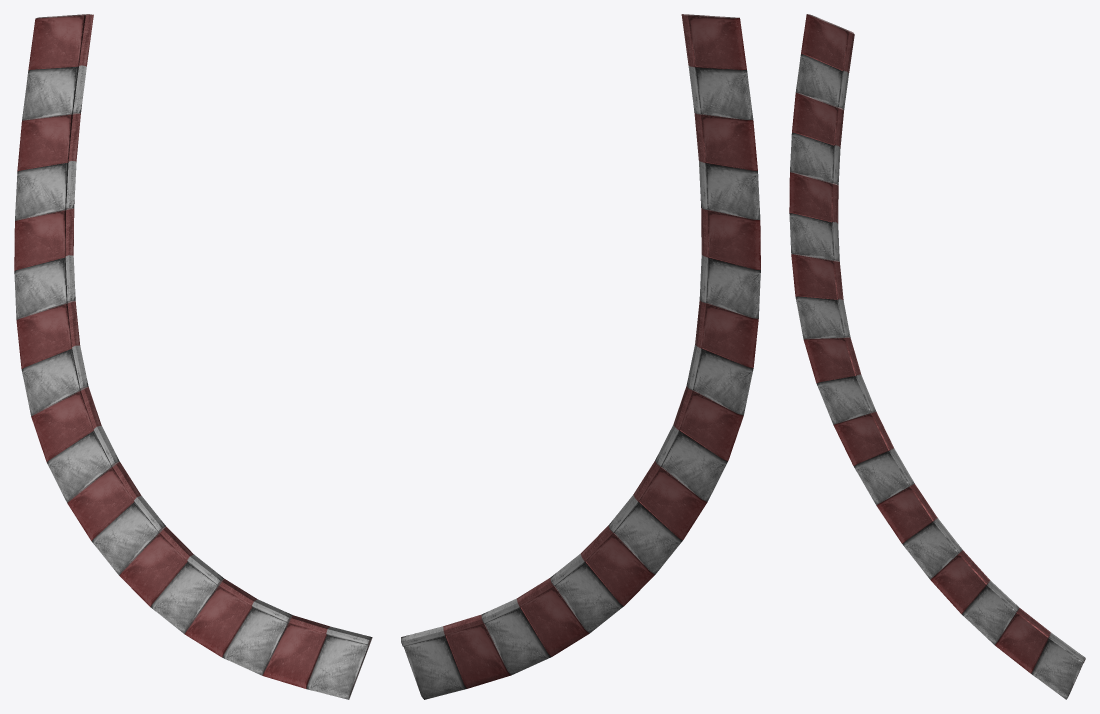
The model's file is _1KERB_01_01_Scene.229.obj.
The picture shows the model from 3 angles, left to right: view 1: azimuth 30°, elevation 25°; view 2: azimuth 150°, elevation 25°; view 3: azimuth 330°, elevation 25°; orthographic projection. The views are drawn at different scales.
Visible parts, largest first — view 1: _1KERB_01_01_Scene.229; view 2: _1KERB_01_01_Scene.229; view 3: _1KERB_01_01_Scene.229.
Part boxes in pixels (<box>): _1KERB_01_01_Scene.229: <box>14,14,372,699</box>; _1KERB_01_01_Scene.229: <box>401,14,760,699</box>; _1KERB_01_01_Scene.229: <box>789,14,1085,699</box>.
Size of the model in its own units: 7.81 by 15.76 by 0.0943.
